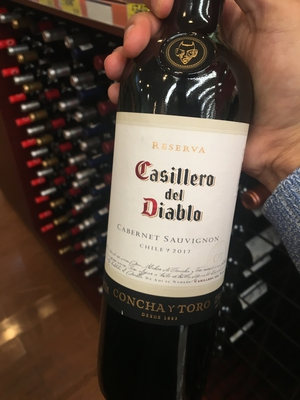casillero del diablo cabernet sauvignon: (102, 3, 251, 385)
